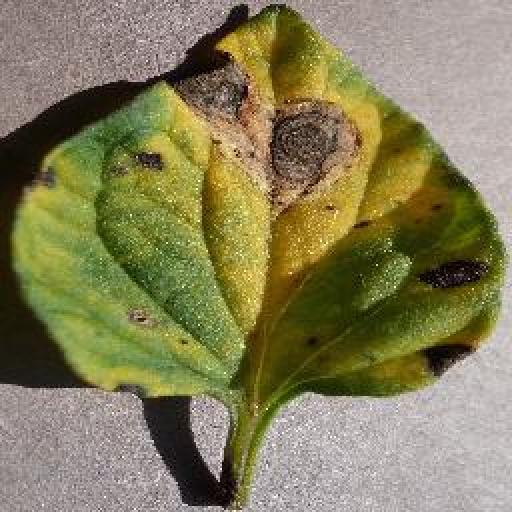Early Blight: (9, 2, 504, 402)
